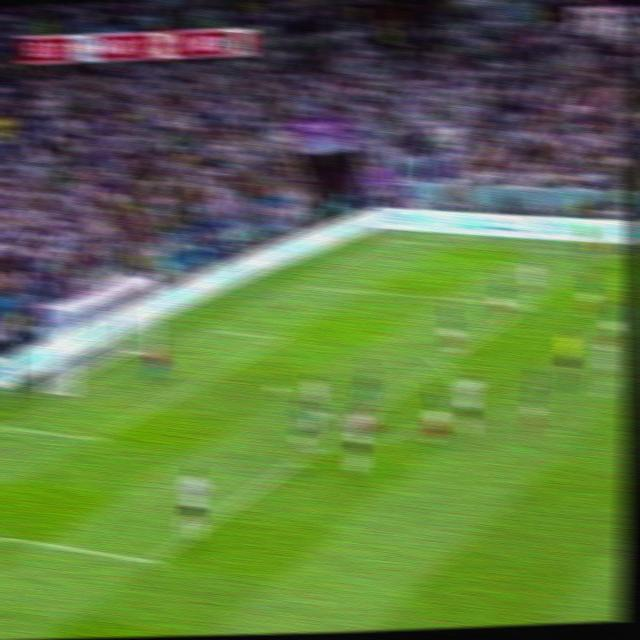bigarea_bottom_inner: (141, 550, 165, 574)
bigarea_top_inner: (517, 298, 532, 311)
bigarea_top_outter: (287, 281, 306, 292)
bottom_arc_area_intersection: (303, 441, 323, 461)
corner: (379, 236, 398, 247)
smallarea_bottom_inner: (81, 427, 107, 449)
smallarea_bottom_outter: (0, 417, 17, 435)
smallarea_top_inner: (270, 328, 292, 348)
smallarea_top_outter: (198, 322, 216, 338)
top_arc_area_intersection: (429, 351, 452, 374)
